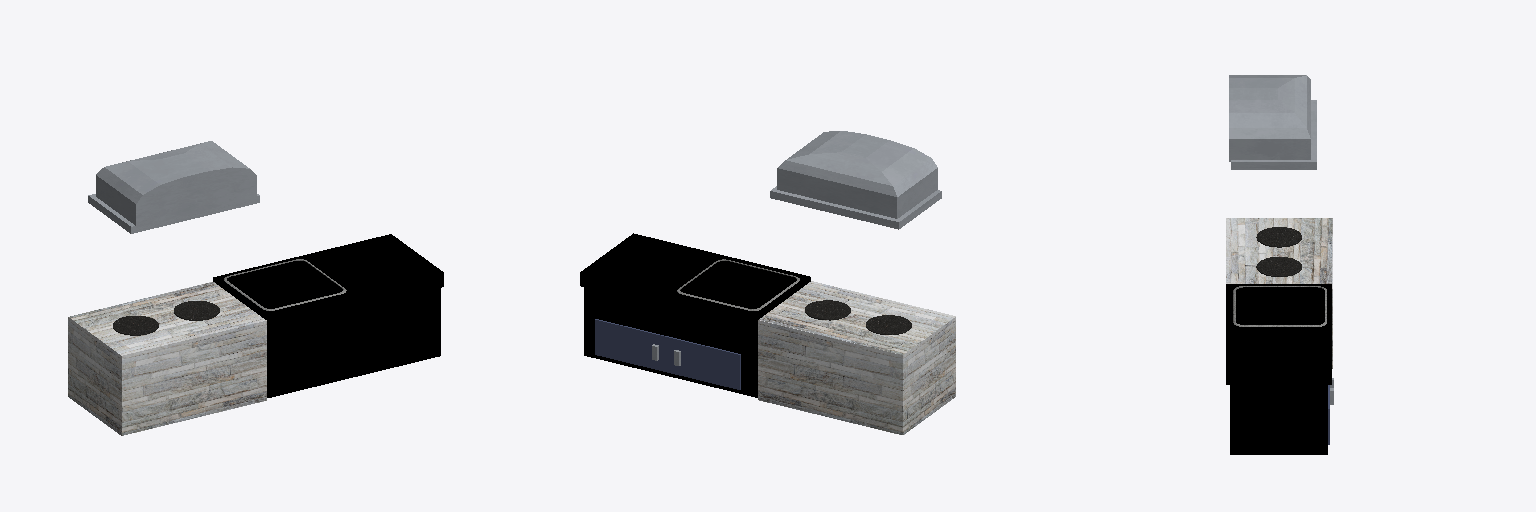
3 renders of one model, left to right at view 1: azimuth 30°, elevation 25°; view 2: azimuth 150°, elevation 25°; view 3: azimuth 270°, elevation 25°, orthographic.
Parts seen in each view (by area): view 1: polySurface1219; view 2: polySurface1219; view 3: polySurface1219.
Boxes of the visible parts, x1,y1,x2,y2 form: polySurface1219: [68, 141, 443, 435]; polySurface1219: [580, 131, 955, 434]; polySurface1219: [1226, 75, 1333, 454].
Size of the model in its own units: 2.89 by 2.07 by 0.8395.
7 materials, 5 textured.